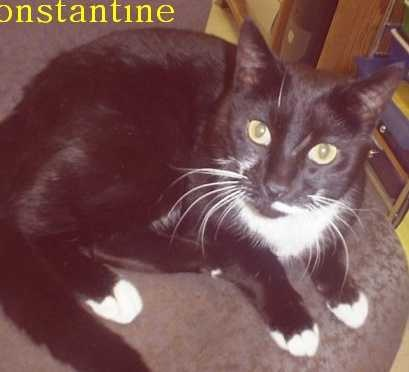Cat: (53, 20, 402, 357)
